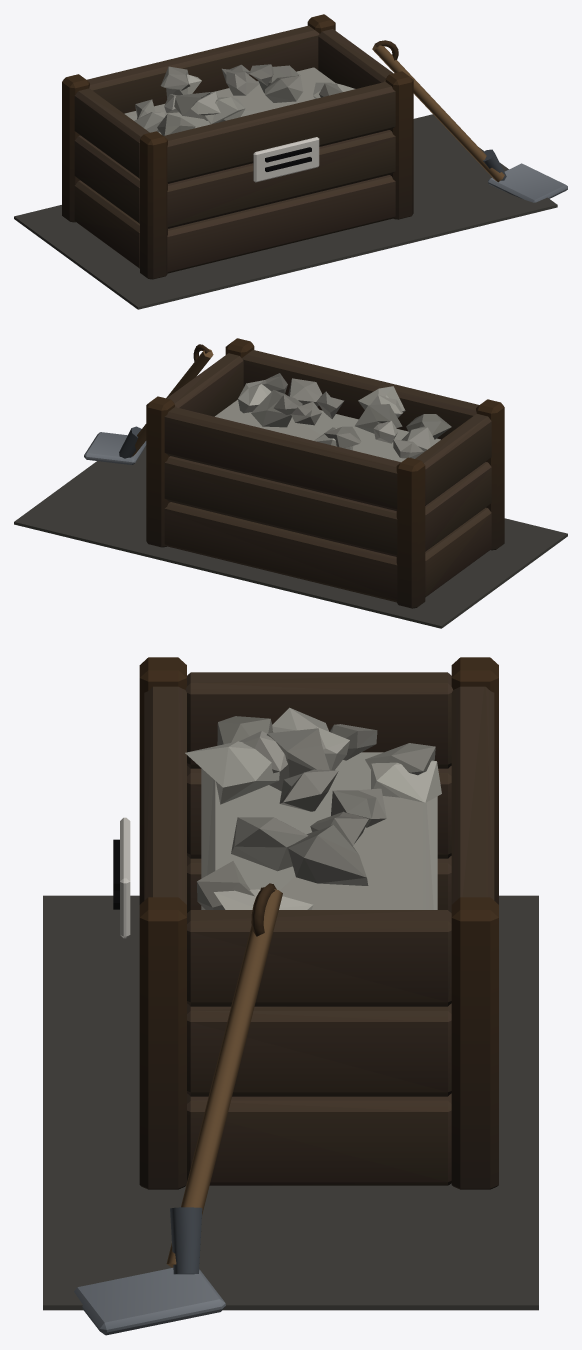
Rendered from ballast-bin.glb.
3 renders of one model, top to bottom at view 1: azimuth 30°, elevation 25°; view 2: azimuth 150°, elevation 25°; view 3: azimuth 270°, elevation 25°, orthographic. The views are drawn at different scales.
Parts seen in each view (by area): view 1: ballast_bin; view 2: ballast_bin; view 3: ballast_bin.
Part boxes in pixels (x1,y1,x2,y2): ballast_bin: (14, 14, 567, 309); ballast_bin: (14, 338, 567, 628); ballast_bin: (43, 657, 538, 1335).
Size of the model in its own units: 2.18 by 0.732 by 1.05.
